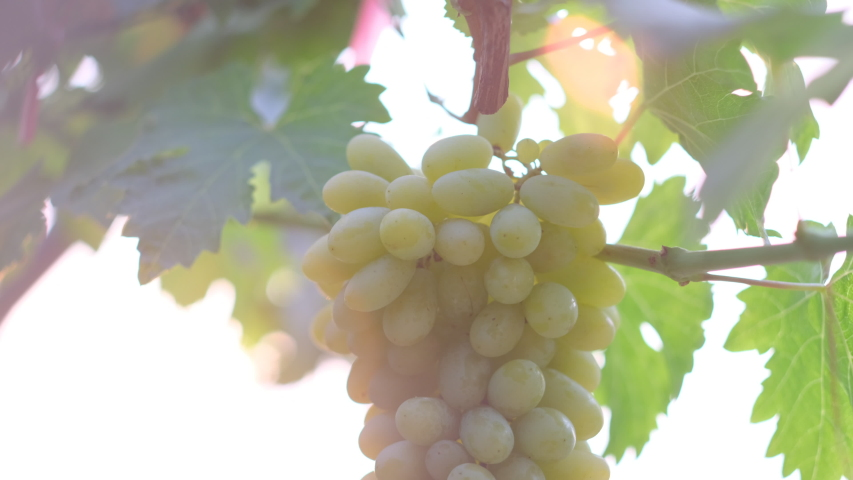grapes: (302, 131, 652, 479)
